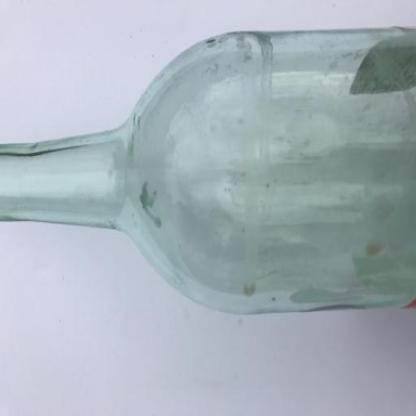trash: (1, 28, 415, 310)
